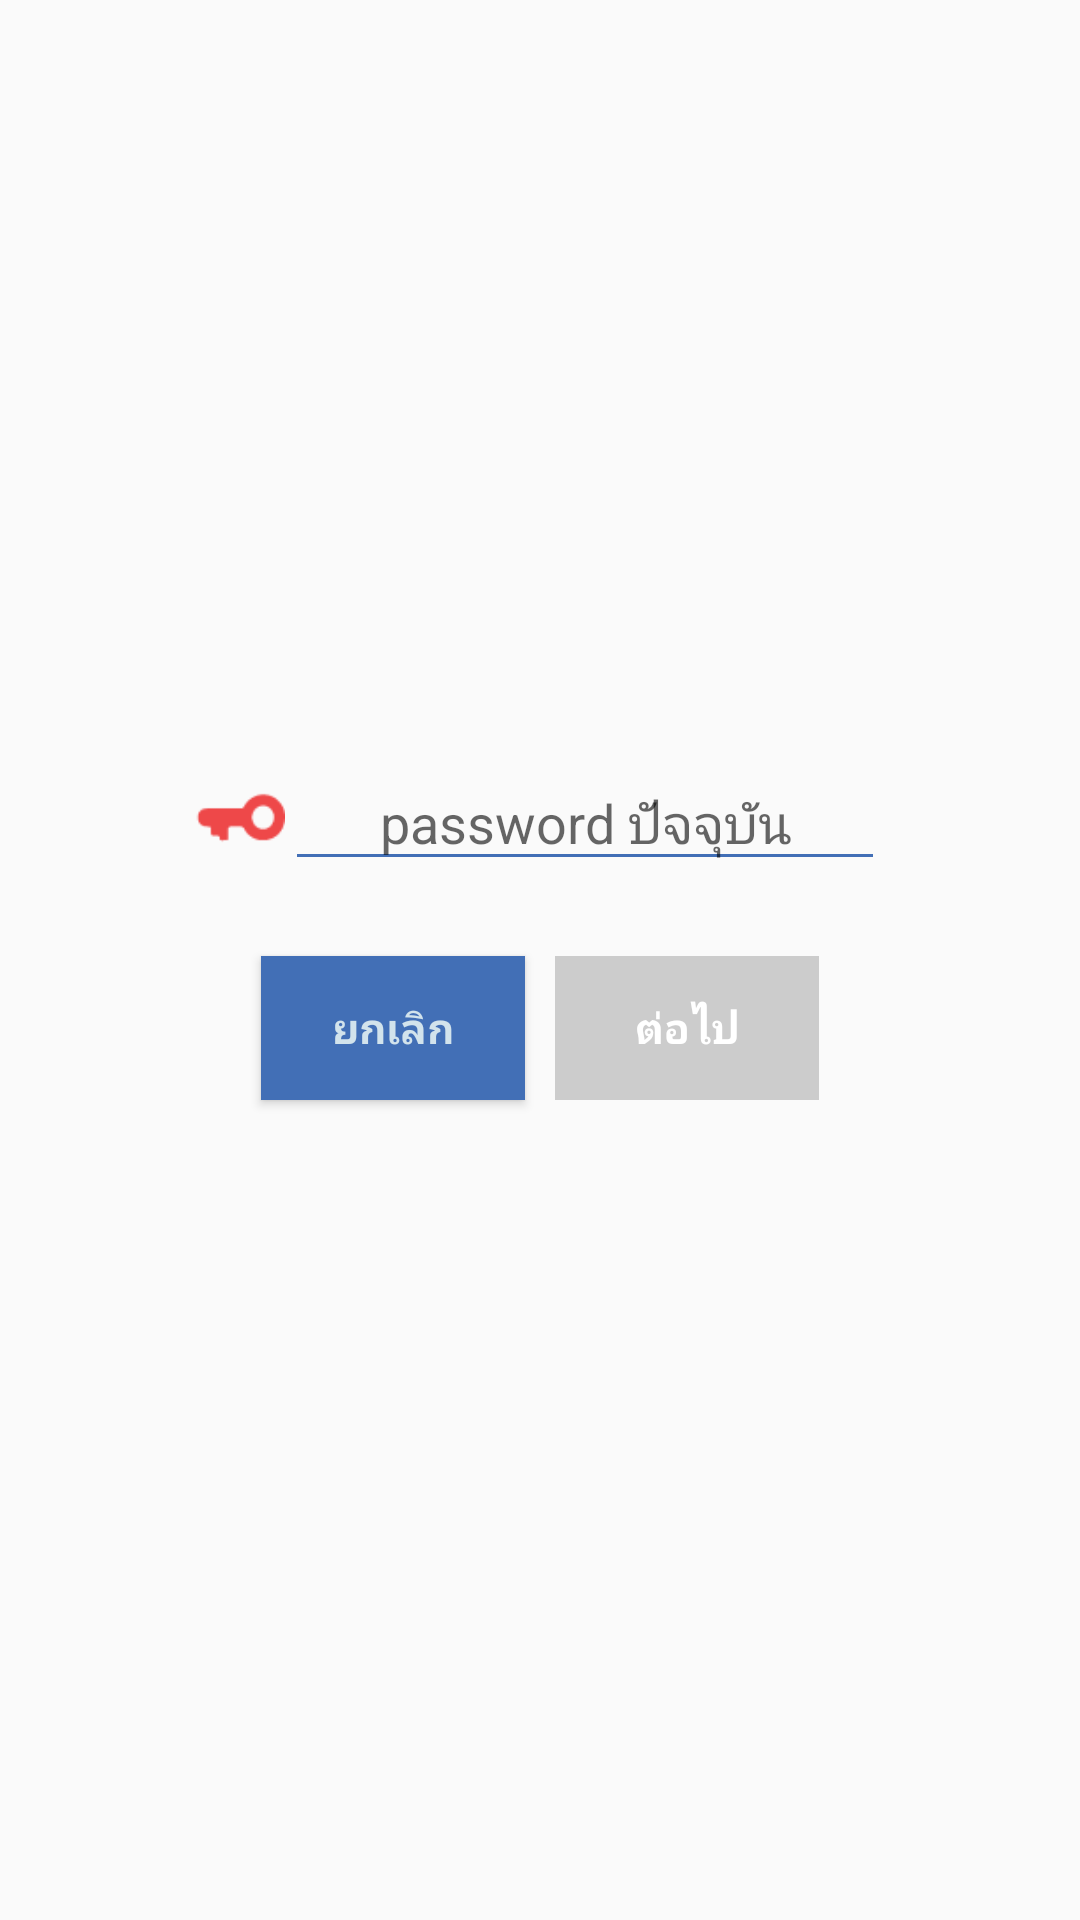

Icons on this 1080×1920 Android screen, each with its box as (x1, y1, x2, y2):
key: (197, 794, 285, 842)
